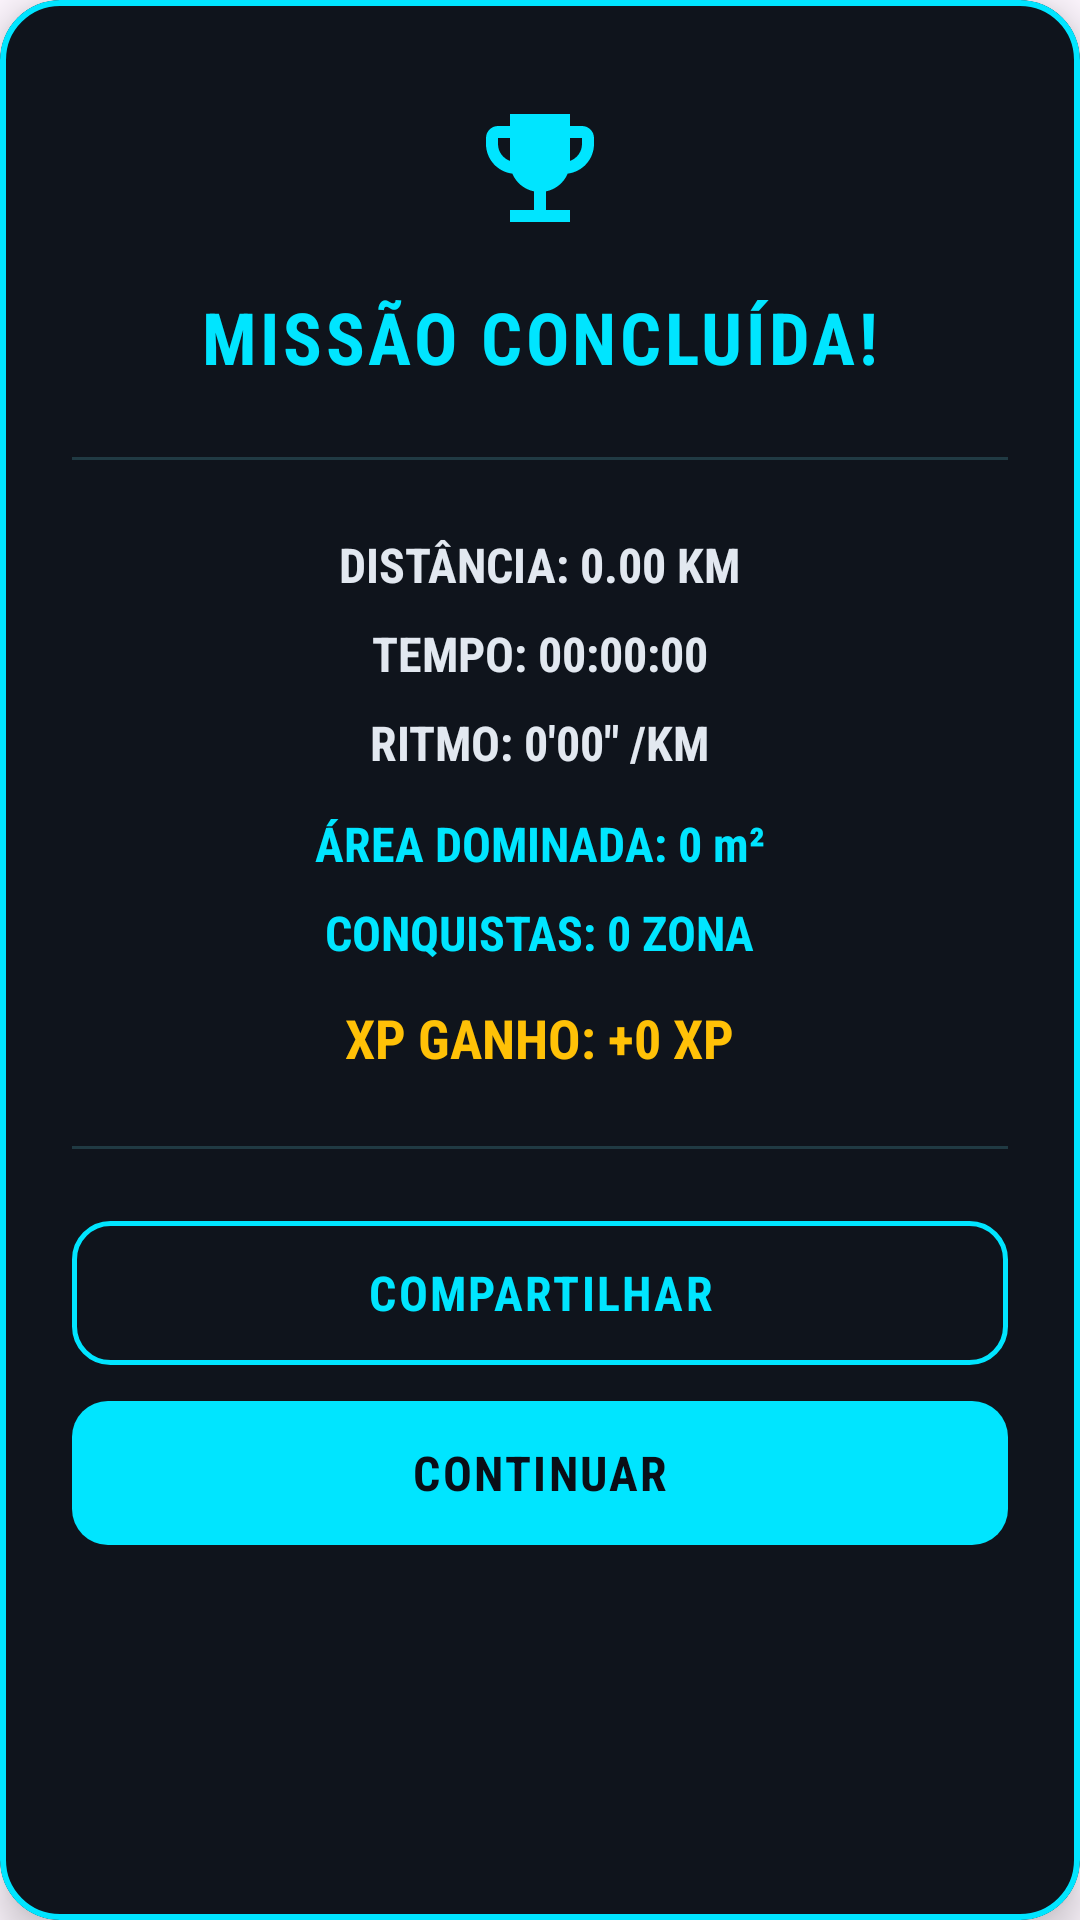

Icon bounding boxes for this 1080px x 1920px phone screenshot, format (x1, y1, x2, y2):
trophy: (486, 114, 594, 222)
